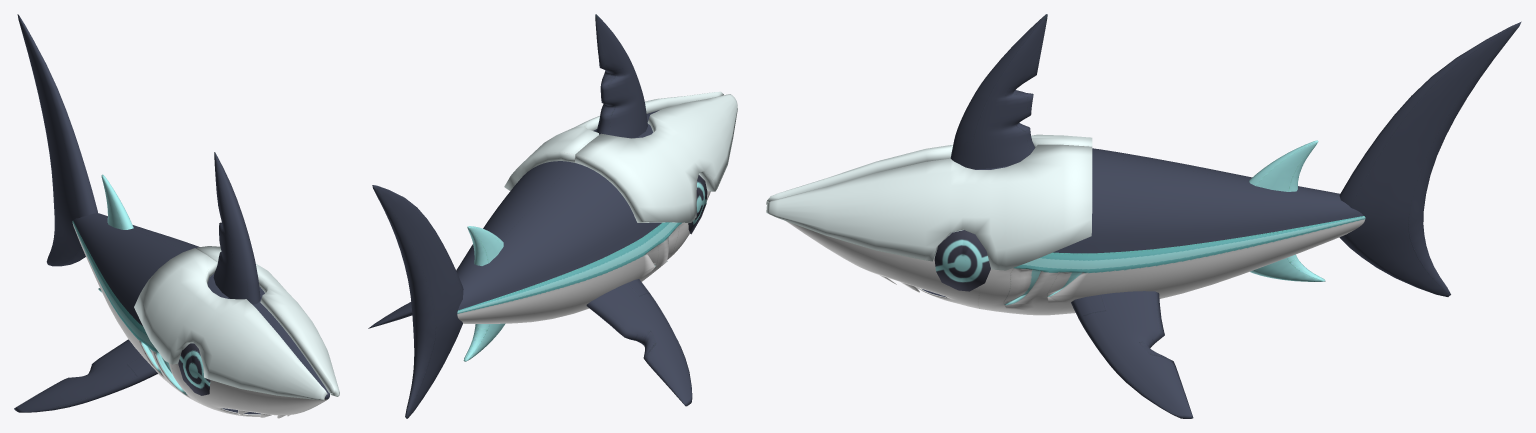
Rendered from shark.fbx.
The picture shows the model from 3 angles, left to right: view 1: azimuth 30°, elevation 25°; view 2: azimuth 150°, elevation 25°; view 3: azimuth 270°, elevation 25°; orthographic projection. The views are drawn at different scales.
Parts seen in each view (by area): view 1: helm, fin, body, eyes; view 2: body, fin, helm, eyes; view 3: body, fin, helm, eyes.
Part boxes in pixels (x1,y1,x2,y2): helm: (134,246,339,400); fin: (14,14,260,412); body: (72,213,329,418); eyes: (178,343,210,395); body: (456,110,710,323); fin: (368,14,692,418); helm: (504,91,737,222); eyes: (688,175,707,234); body: (786,148,1365,315); fin: (950,14,1521,418); helm: (766,134,1092,270); eyes: (934,230,990,291).
Bounding box in the file's own units: 292 × 265 × 563.
Materials: 4 (4 with a texture image).
